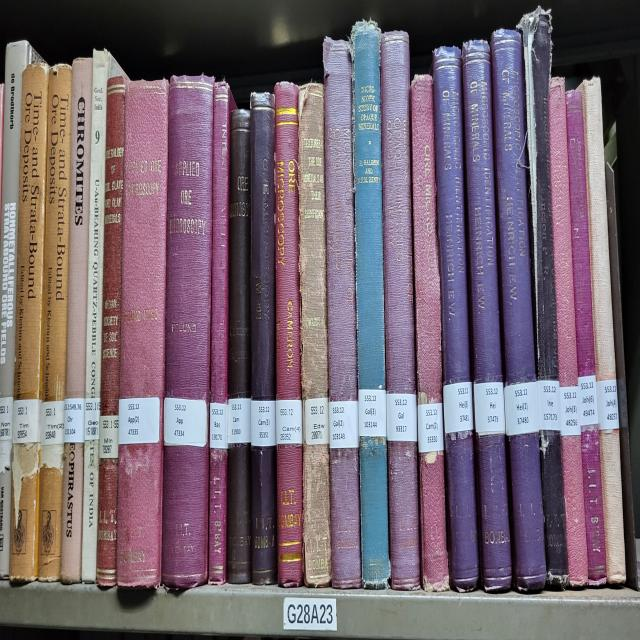Book: (491, 30, 546, 590), (519, 8, 569, 587), (462, 41, 511, 590), (116, 81, 169, 587), (162, 76, 214, 587), (432, 46, 479, 590), (580, 78, 626, 584), (81, 49, 124, 582), (350, 22, 390, 587), (381, 32, 420, 590), (324, 38, 361, 587), (10, 62, 49, 582), (566, 89, 606, 584), (411, 76, 449, 590), (39, 65, 71, 582), (299, 84, 331, 587), (96, 76, 126, 587), (250, 92, 278, 584), (275, 84, 302, 587), (209, 81, 235, 584), (226, 111, 251, 584), (549, 78, 578, 387), (66, 57, 92, 398)
Label: (164, 398, 208, 446), (504, 381, 539, 436), (119, 398, 160, 444), (474, 381, 505, 436), (386, 392, 418, 441), (444, 381, 472, 436), (329, 400, 359, 449), (12, 398, 41, 444), (359, 390, 386, 438), (418, 403, 444, 452), (596, 379, 620, 430), (538, 379, 561, 430), (251, 400, 276, 446), (276, 400, 302, 444), (41, 400, 65, 446), (305, 398, 329, 444), (228, 398, 251, 444), (560, 387, 581, 436), (578, 376, 598, 427), (64, 398, 85, 444), (99, 414, 119, 457), (210, 403, 228, 449), (84, 398, 100, 441)
